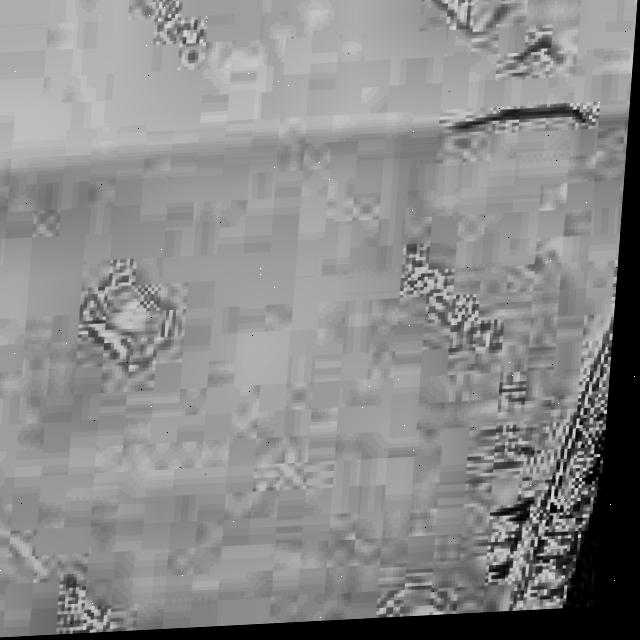door_scratch: (445, 82, 612, 153)
